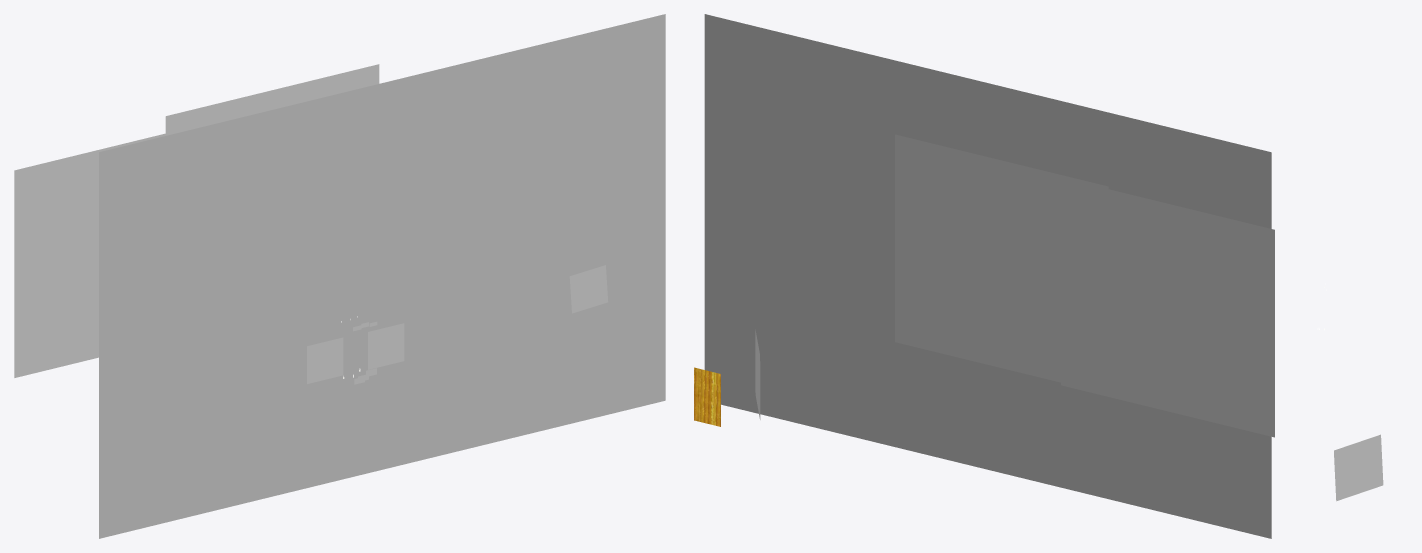
Rendered from solution_2.glb.
The picture shows the model from 3 angles, left to right: view 1: azimuth 30°, elevation 25°; view 2: azimuth 150°, elevation 25°; view 3: azimuth 270°, elevation 25°; orthographic projection. The views are drawn at different scales.
Visible parts, largest first — view 1: main, Plane.007, Plane.006, Plane.002, Plane.003, Plane.001; view 2: main, Plane.006, Plane.007, Plane.004; view 3: Plane.
Boxes of the visible parts, left/top/right/bottom form: main: left=99, top=14, right=665, bottom=538; Plane.007: left=14, top=118, right=228, bottom=377; Plane.006: left=165, top=64, right=379, bottom=133; Plane.002: left=368, top=323, right=404, bottom=369; Plane.003: left=307, top=337, right=343, bottom=383; Plane.001: left=569, top=265, right=608, bottom=313; main: left=704, top=14, right=1271, bottom=538; Plane.006: left=895, top=134, right=1108, bottom=394; Plane.007: left=1061, top=189, right=1274, bottom=437; Plane.004: left=694, top=367, right=720, bottom=426; Plane: left=1334, top=434, right=1383, bottom=501.
Size of the model in its own units: 4.14 by 2.5 by 0.7714.
Materials: 9 (1 with a texture image).
